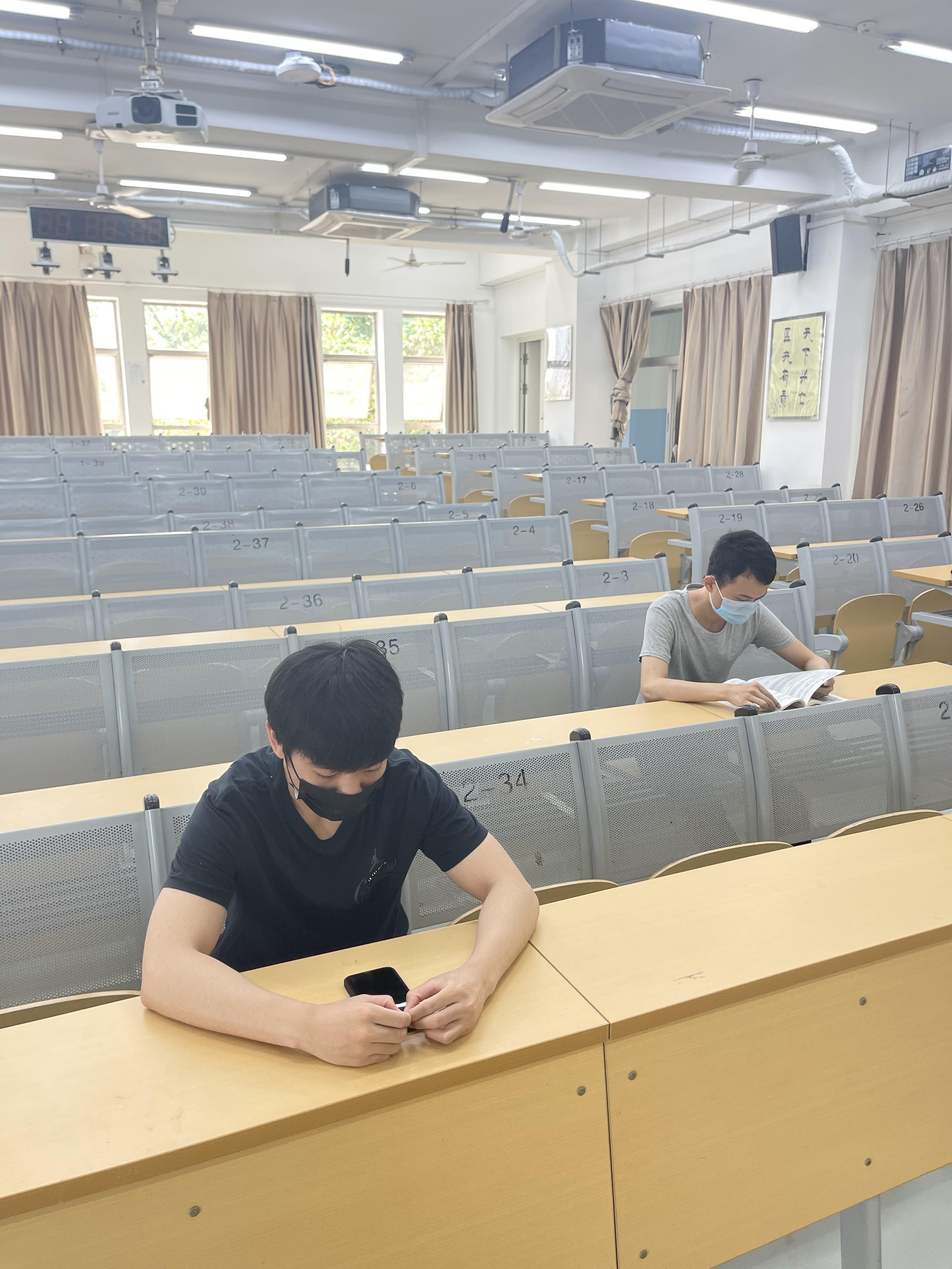phone: (140, 642, 541, 1068)
study: (641, 532, 834, 713)
